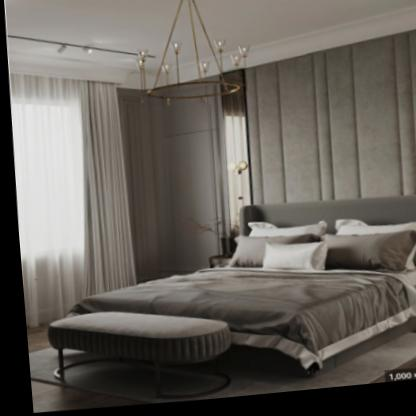Bed: (70, 203, 416, 379)
Curtains: (9, 75, 132, 327)
Wall Panel: (115, 37, 416, 273)
